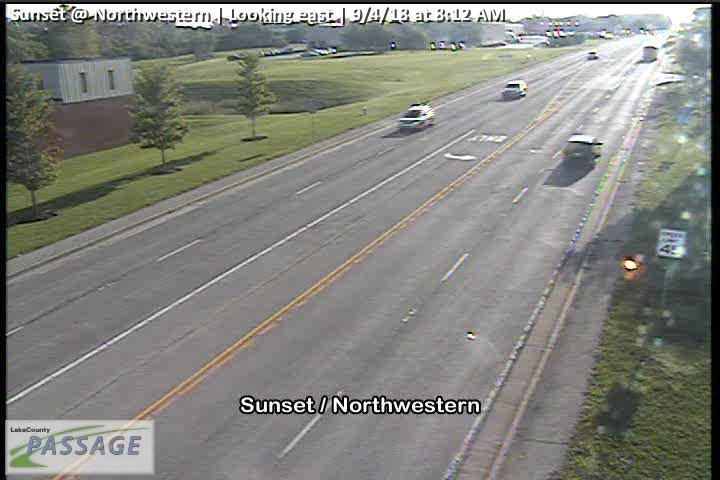SUV: (566, 134, 604, 164), (400, 104, 435, 131), (502, 79, 528, 99)
Sedan: (587, 51, 598, 59)
Truck: (643, 45, 659, 61)
